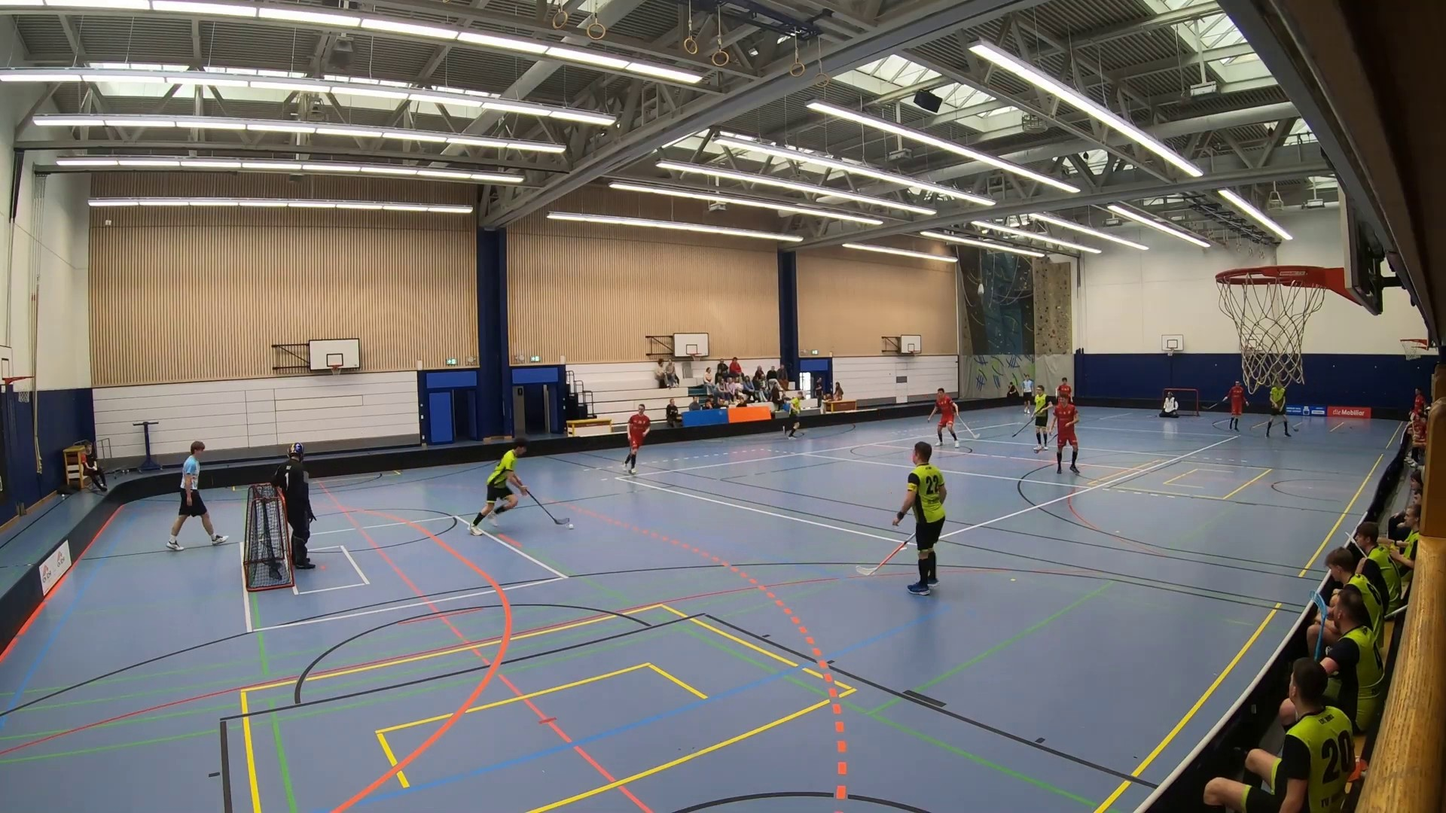Schiri: (158, 434, 227, 555), (1020, 372, 1032, 413)
ball: (977, 282, 984, 294), (567, 522, 572, 529)
goalkeeper: (271, 442, 315, 568), (1161, 389, 1180, 420)
player: (892, 440, 946, 594), (469, 438, 527, 534), (1048, 394, 1078, 472), (926, 387, 958, 447), (624, 403, 650, 473), (1029, 385, 1050, 452), (1265, 379, 1289, 437), (1227, 379, 1247, 431), (785, 391, 802, 438), (1057, 377, 1072, 401)
